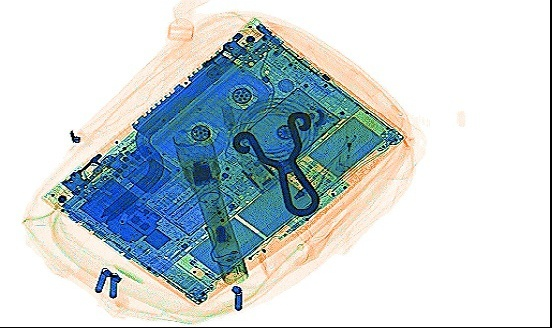lighter: (333, 115, 353, 171)
slingshot: (229, 108, 320, 216)
